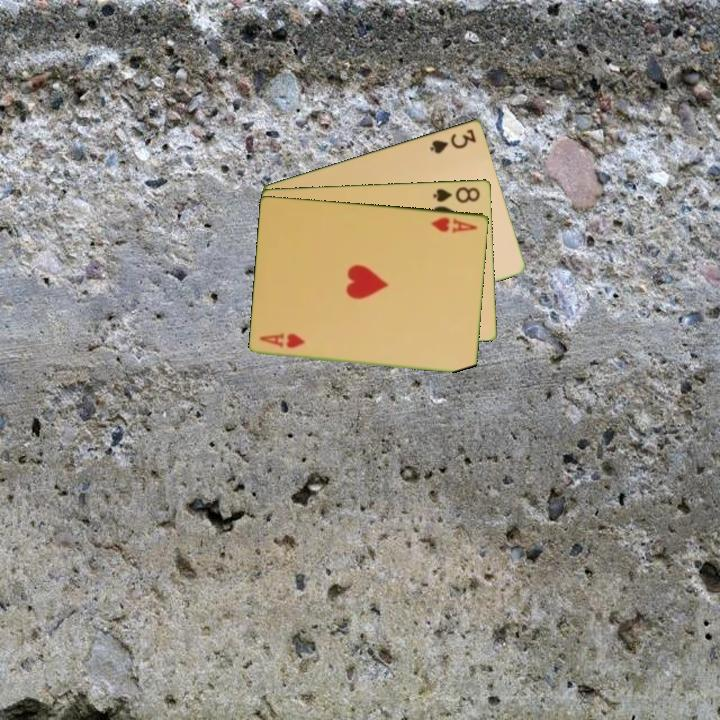3s: (426, 125, 479, 156)
8s: (429, 183, 483, 205)
Ah: (428, 213, 481, 236), (256, 331, 308, 351)
